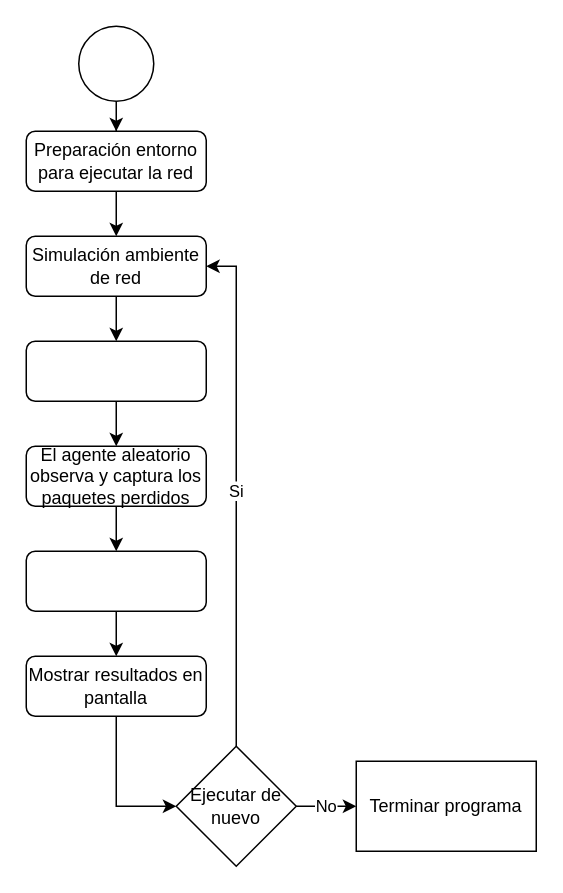
The diagram is 563 pixels wide and 893 high, and some of its shapes have lost their labels. Each missing label, with the box of its shape:
El agente aleatorio observa y captura el número de pasos: (25, 340, 206, 401)
Inicio: (77, 25, 154, 101)
Se almacena la información en un fichero: (25, 550, 206, 611)
